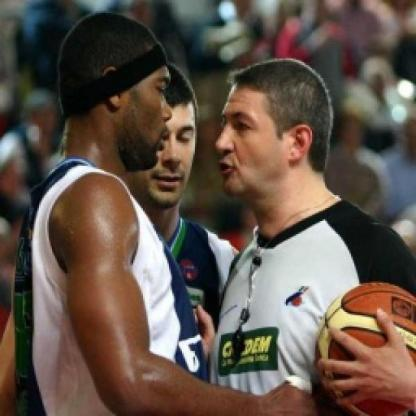basketball: (316, 277, 416, 416)
